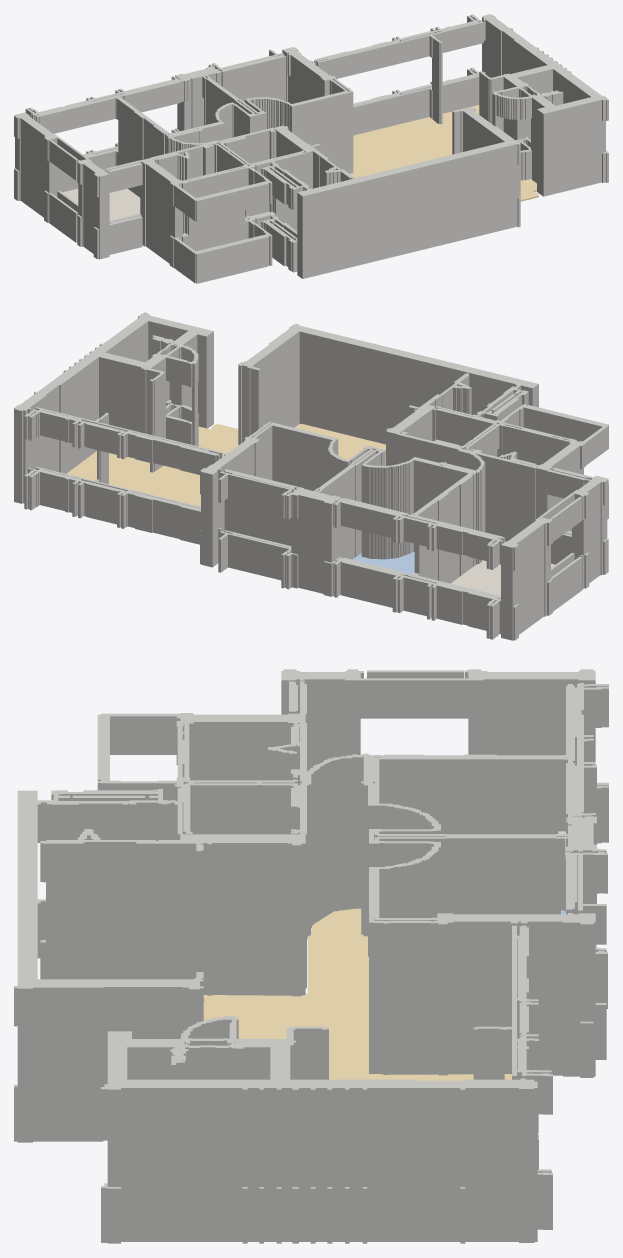
The picture shows the model from 3 angles, top to bottom: view 1: azimuth 30°, elevation 25°; view 2: azimuth 150°, elevation 25°; view 3: azimuth 270°, elevation 25°; orthographic projection. The views are drawn at different scales.
Visible parts, largest first — view 1: walls, room:living:3, room:other:4; view 2: walls, room:living:3, room:other:4, room:bedroom:0; view 3: walls, room:living:3.
Boxes of the visible parts, x1,y1,x2,y2 form: walls: (14,14,608,283); room:living:3: (350,105,538,201); room:other:4: (62,188,140,220); walls: (14,312,608,640); room:living:3: (66,423,385,506); room:other:4: (451,560,554,595); room:bedroom:0: (352,551,414,574); walls: (14,669,608,1243); room:living:3: (203,908,511,1080).
Bounding box in the file's own units: 16.4 × 2.8 × 9.81.
